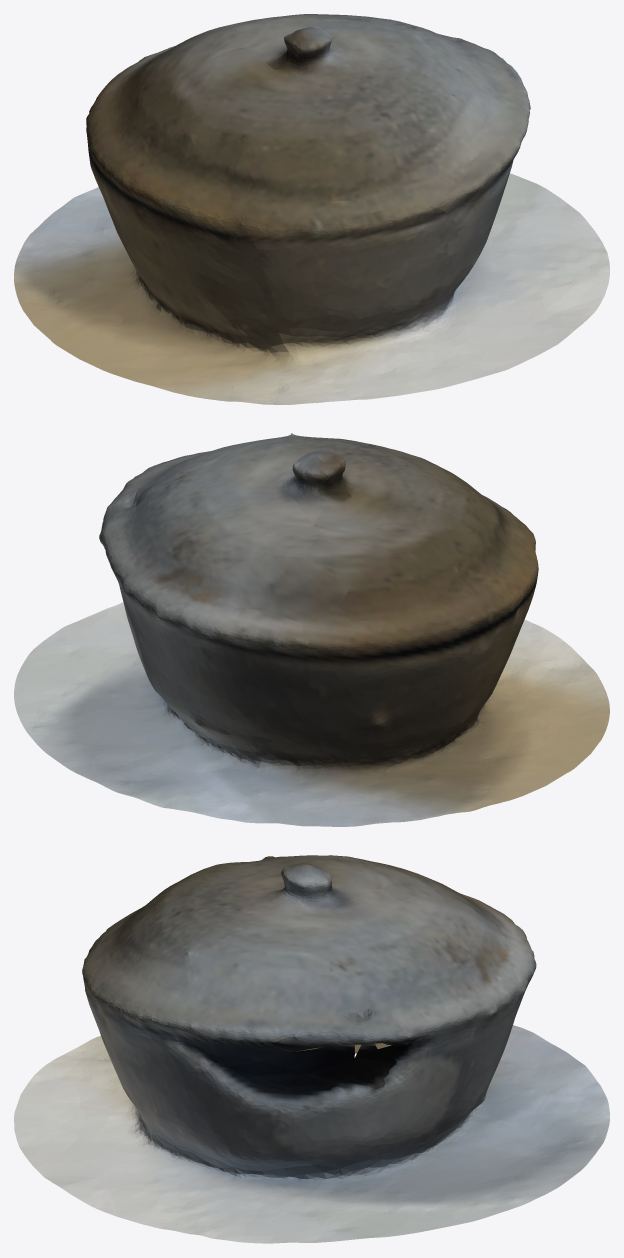
3 renders of one model, top to bottom at view 1: azimuth 30°, elevation 25°; view 2: azimuth 150°, elevation 25°; view 3: azimuth 270°, elevation 25°, orthographic.
Parts seen in each view (by area): view 1: mesh; view 2: mesh; view 3: mesh.
Part boxes in pixels (x1=…): mesh: x1=14, y1=14, x2=609, y2=404; mesh: x1=14, y1=433, x2=609, y2=826; mesh: x1=14, y1=855, x2=609, y2=1243.
Size of the model in its own units: 0.1512 by 0.071 by 0.1486.
Materials: 1 (1 with a texture image).
